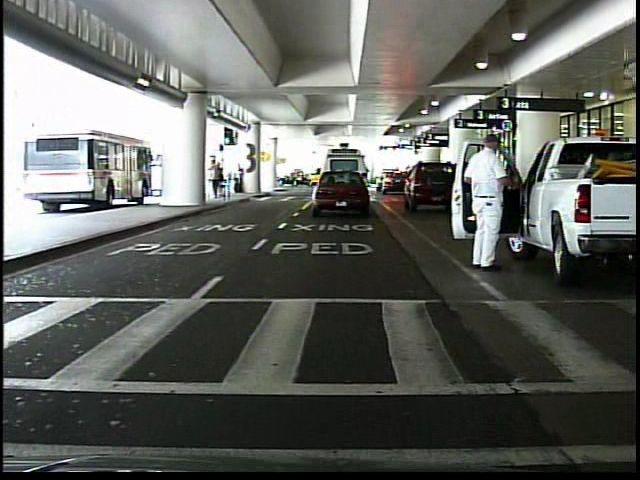person: (464, 129, 518, 271), (210, 155, 224, 202), (232, 163, 248, 197)
